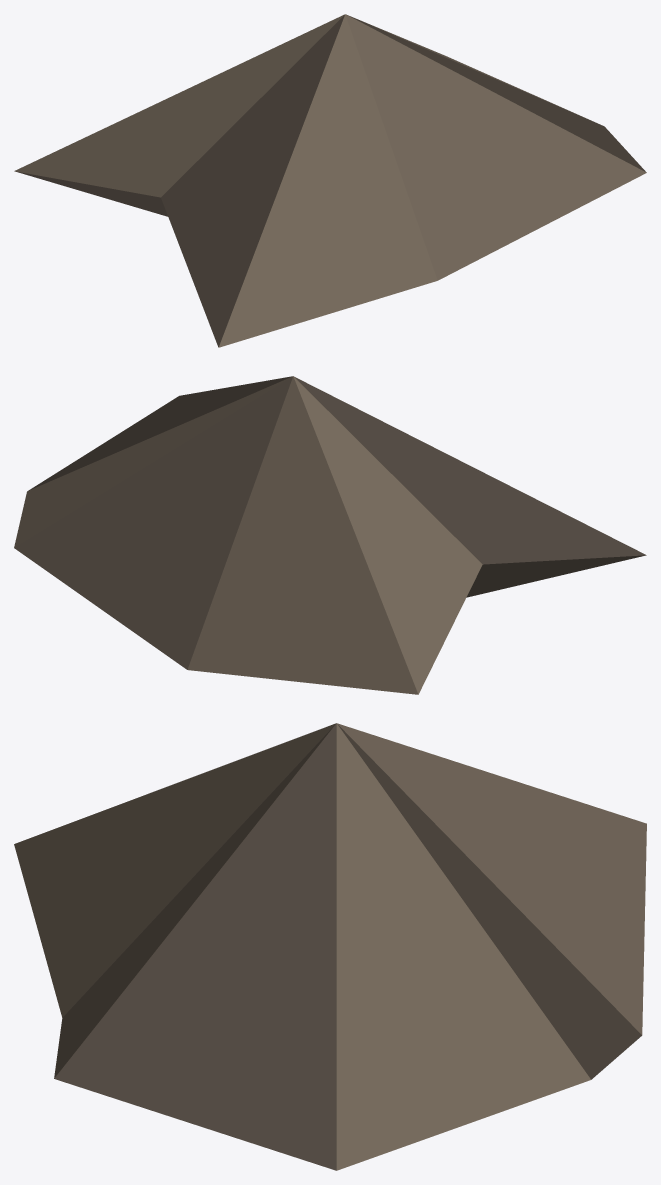
Rendered from pebble.glb.
3 renders of one model, top to bottom at view 1: azimuth 30°, elevation 25°; view 2: azimuth 150°, elevation 25°; view 3: azimuth 270°, elevation 25°, orthographic. The views are drawn at different scales.
Visible parts, largest first — view 1: pebble; view 2: pebble; view 3: pebble.
Boxes of the visible parts, x1,y1,x2,y2 form: pebble: (14, 14, 646, 347); pebble: (14, 376, 646, 694); pebble: (14, 723, 646, 1170).
Size of the model in its own units: 1.62 by 0.8 by 1.21.
